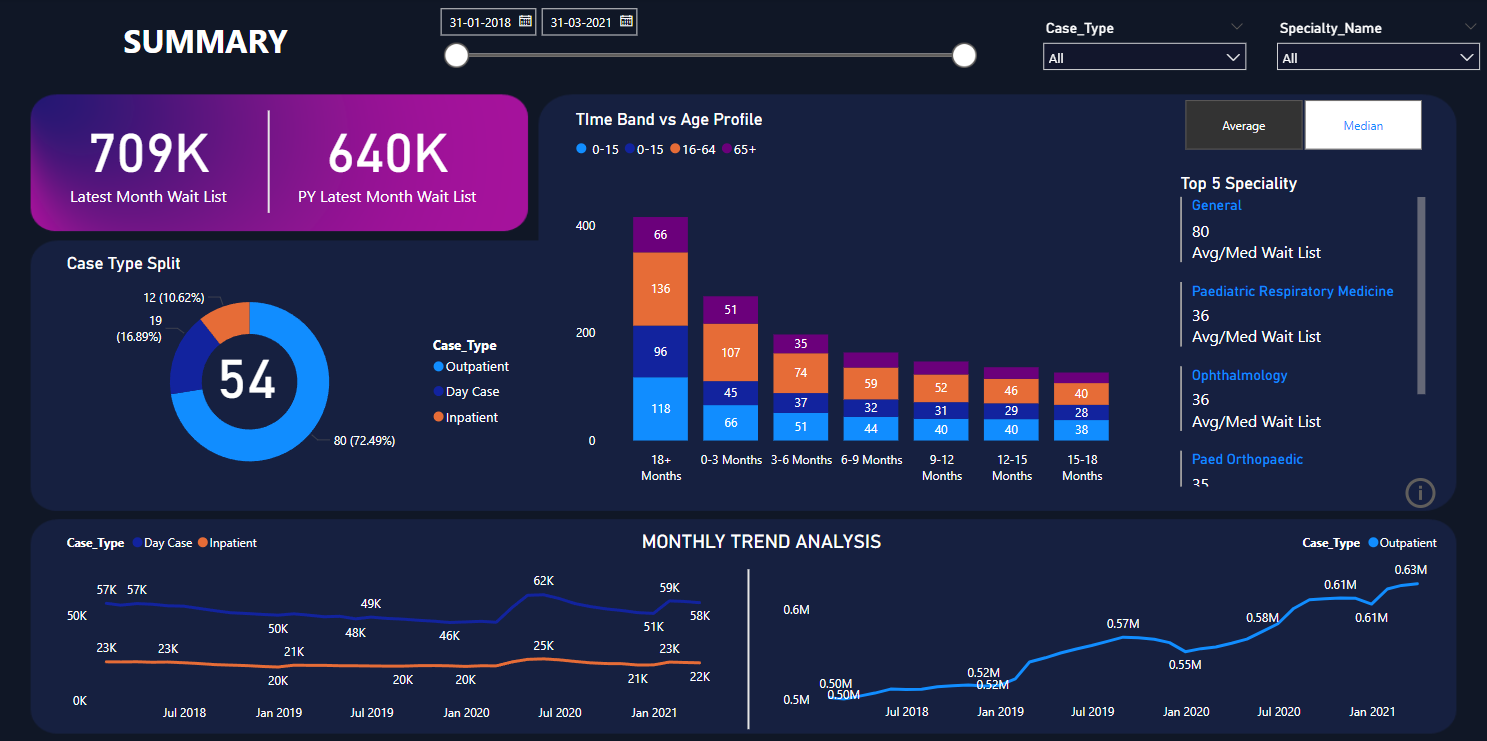

Layout of this report page (visuals, bound fields, positions):
{"tool":"powerbi","page":{"name":"SUMMARY","canvas":[1500,750],"ordinal":0},"visuals":[{"type":"card","fields":{"Values":["All_Data.Latest Month Wait List"]},"box":[32,80,240,160],"z":0},{"type":"card","fields":{"Values":["All_Data.PY Latest Month Wait List"]},"box":[272,80,240,160],"z":1000},{"type":"slicer","fields":{"Values":["Calculation Method.Calc Method"]},"box":[1168,96,288,64],"z":2000},{"type":"donutChart","title":"Case Type Split","fields":{"Category":["All_Data.Case_Type"],"Y":["All_Data.Avg/Med Wait List"]},"box":[64,256,464,240],"z":3000},{"type":"columnChart","title":"TIme Band vs Age Profile","fields":{"Y":["All_Data.Avg/Med Wait List"],"Category":["All_Data.Time_Bands"],"Series":["All_Data.Age_Profile"]},"box":[576,112,576,384],"z":4000},{"type":"multiRowCard","title":"Top 5 Speciality","fields":{"Values":["All_Data.Avg/Med Wait List","All_Data.Specialty_Name"]},"box":[1184,176,256,320],"z":5000},{"type":"lineChart","fields":{"Series":["All_Data.Case_Type"],"Category":["All_Data.Archive_Date"],"Y":["Sum(All_Data.Total)"]},"box":[64.3,527.4,670.6,209],"z":6000},{"type":"lineChart","fields":{"Series":["All_Data.Case_Type"],"Category":["All_Data.Archive_Date"],"Y":["Sum(All_Data.Total)"]},"box":[784,528,672,208],"z":7000},{"type":"slicer","fields":{"Values":["All_Data.Archive_Date"]},"box":[432,0,560,80],"z":8000},{"type":"slicer","fields":{"Values":["All_Data.Case_Type"]},"box":[1040,16,224,64],"z":9000},{"type":"slicer","fields":{"Values":["All_Data.Specialty_Name"]},"box":[1276,16,224,64],"z":10000},{"type":"textbox","box":[80,16,256,64],"z":11000},{"type":"card","fields":{"Values":["All_Data.Avg/Med Wait List"]},"box":[207.4,342.5,83.6,65.9],"z":12000},{"type":"shape","box":[99.7,112.6,345.7,102.9],"z":13000},{"type":"shape","box":[516.2,574.1,476,160.8],"z":14000},{"type":"textbox","box":[641.6,530.7,258.9,43.4],"z":15000},{"type":"actionButton","box":[1410.3,477.6,56.3,40.2],"z":16000}]}

Visuals, with their boxes in screenshot pixels (x1, y1, x2, y2), scaled from the page's 1500x750 canvas onto the 1487x741 screenshot:
card - All_Data.Latest Month Wait List: bbox=(32, 79, 270, 237)
card - All_Data.PY Latest Month Wait List: bbox=(270, 79, 508, 237)
slicer - Calculation Method.Calc Method: bbox=(1158, 95, 1443, 158)
"Case Type Split" donutChart: bbox=(63, 253, 523, 490)
"TIme Band vs Age Profile" columnChart: bbox=(571, 111, 1142, 490)
"Top 5 Speciality" multiRowCard: bbox=(1174, 174, 1428, 490)
lineChart - All_Data.Case_Type x All_Data.Archive_Date: bbox=(64, 521, 729, 728)
lineChart - All_Data.Case_Type x All_Data.Archive_Date: bbox=(777, 522, 1443, 727)
slicer - All_Data.Archive_Date: bbox=(428, 0, 983, 79)
slicer - All_Data.Case_Type: bbox=(1031, 16, 1253, 79)
slicer - All_Data.Specialty_Name: bbox=(1265, 16, 1486, 79)
textbox: bbox=(79, 16, 333, 79)
card - All_Data.Avg/Med Wait List: bbox=(206, 338, 288, 403)
shape: bbox=(99, 111, 442, 213)
shape: bbox=(512, 567, 984, 726)
textbox: bbox=(636, 524, 893, 567)
actionButton: bbox=(1398, 472, 1454, 512)
